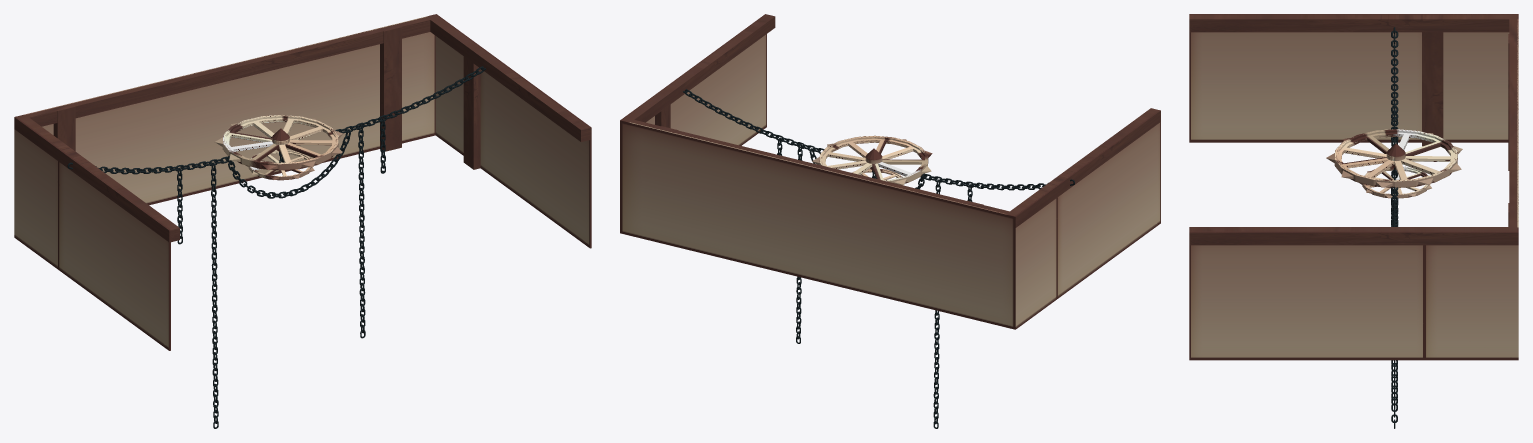
File: wall2.FBX
3 views of the same model, side by side, from view 1: azimuth 30°, elevation 25°; view 2: azimuth 150°, elevation 25°; view 3: azimuth 270°, elevation 25° (orthographic). The views are drawn at different scales.
Visible parts, largest first — view 1: C-Ext009, C-Ext010, Tube001, Box056, Box057, Rectangle041, Rectangle039, Rectangle035, Rectangle030, Rectangle029, Box019, Tube002; view 2: C-Ext009, C-Ext010, Tube001, Rectangle030, Rectangle029, Rectangle041; view 3: C-Ext009, C-Ext010, Tube001, Box058, Tube002, Rectangle029, Rectangle039.
Part boxes in pixels (bbox=[...]): C-Ext009: bbox=[14, 14, 591, 350]; C-Ext010: bbox=[14, 14, 591, 242]; Tube001: bbox=[215, 114, 343, 170]; Box056: bbox=[380, 27, 401, 151]; Box057: bbox=[463, 56, 480, 169]; Rectangle041: bbox=[211, 162, 218, 428]; Rectangle039: bbox=[358, 124, 365, 338]; Rectangle035: bbox=[228, 129, 350, 198]; Rectangle030: bbox=[335, 66, 485, 133]; Rectangle029: bbox=[67, 156, 230, 174]; Box019: bbox=[53, 106, 75, 151]; Tube002: bbox=[245, 150, 314, 180]; C-Ext009: bbox=[620, 14, 1160, 329]; C-Ext010: bbox=[622, 14, 1160, 227]; Tube001: bbox=[812, 135, 932, 184]; Rectangle030: bbox=[683, 89, 824, 153]; Rectangle029: bbox=[920, 174, 1074, 190]; Rectangle041: bbox=[933, 179, 940, 428]; C-Ext009: bbox=[1189, 14, 1518, 360]; C-Ext010: bbox=[1189, 14, 1518, 245]; Tube001: bbox=[1326, 129, 1462, 188]; Box058: bbox=[1422, 32, 1443, 146]; Tube002: bbox=[1359, 166, 1431, 198]; Rectangle029: bbox=[1391, 27, 1398, 137]; Rectangle039: bbox=[1391, 201, 1397, 428].
Size of the model in its own units: 1124 by 764 by 707.
